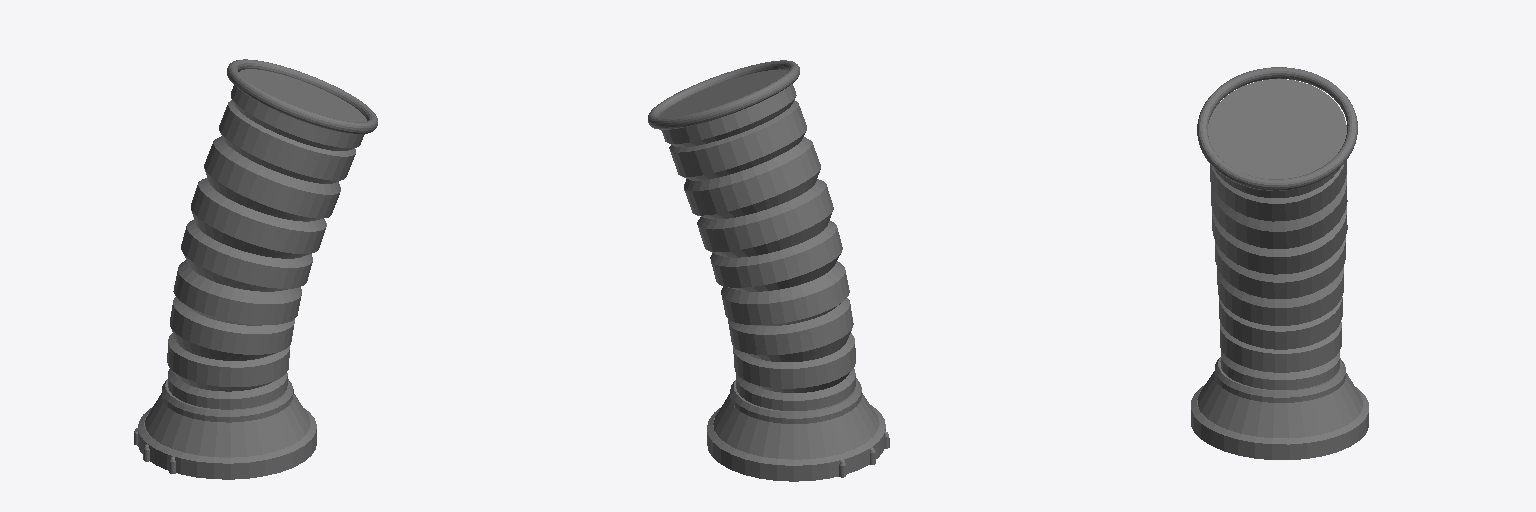
Rendered from goddard_pata1.obj.
The picture shows the model from 3 angles: view 1: azimuth 30°, elevation 25°; view 2: azimuth 150°, elevation 25°; view 3: azimuth 270°, elevation 25°; orthographic projection.
Visible parts, largest first — view 1: Object, Object006, Object008, Object002, Object004; view 2: Object, Object006, Object008, Object002, Object004; view 3: Object, Object006, Object002, Object008, Object004.
Boxes of the visible parts, <box> form: Object: <box>167,69,366,409</box>; Object006: <box>145,393,309,456</box>; Object008: <box>138,407,316,479</box>; Object002: <box>227,59,377,133</box>; Object004: <box>162,379,293,422</box>; Object: <box>659,69,855,410</box>; Object006: <box>713,393,878,459</box>; Object008: <box>707,405,885,481</box>; Object002: <box>648,60,799,129</box>; Object004: <box>730,378,861,423</box>; Object: <box>1208,79,1347,389</box>; Object006: <box>1197,371,1362,437</box>; Object002: <box>1197,67,1357,190</box>; Object008: <box>1191,385,1368,459</box>; Object004: <box>1215,357,1345,402</box>.
Bounding box in the file's own units: 1.45 × 2.3 × 1.03.